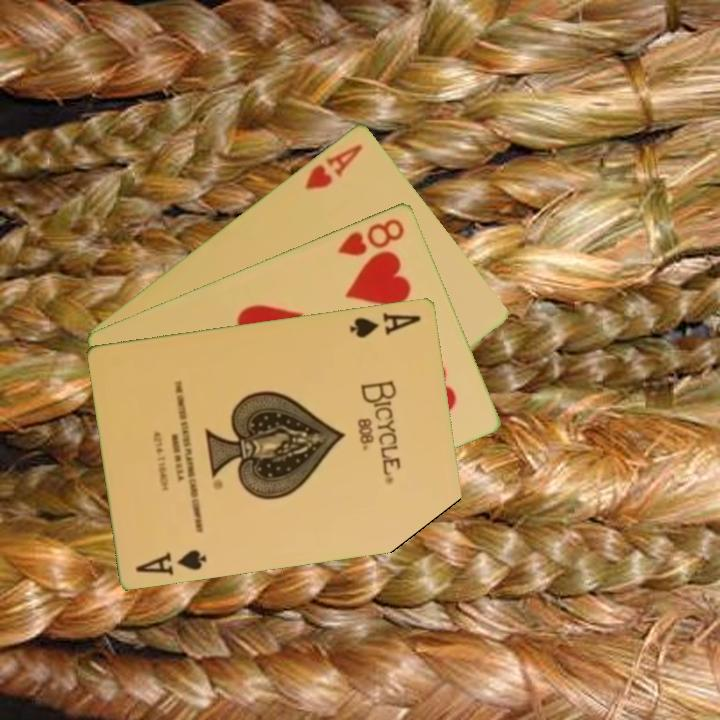8h: (334, 214, 408, 259)
Ah: (301, 140, 366, 192)
As: (346, 309, 424, 341), (132, 545, 210, 577)
